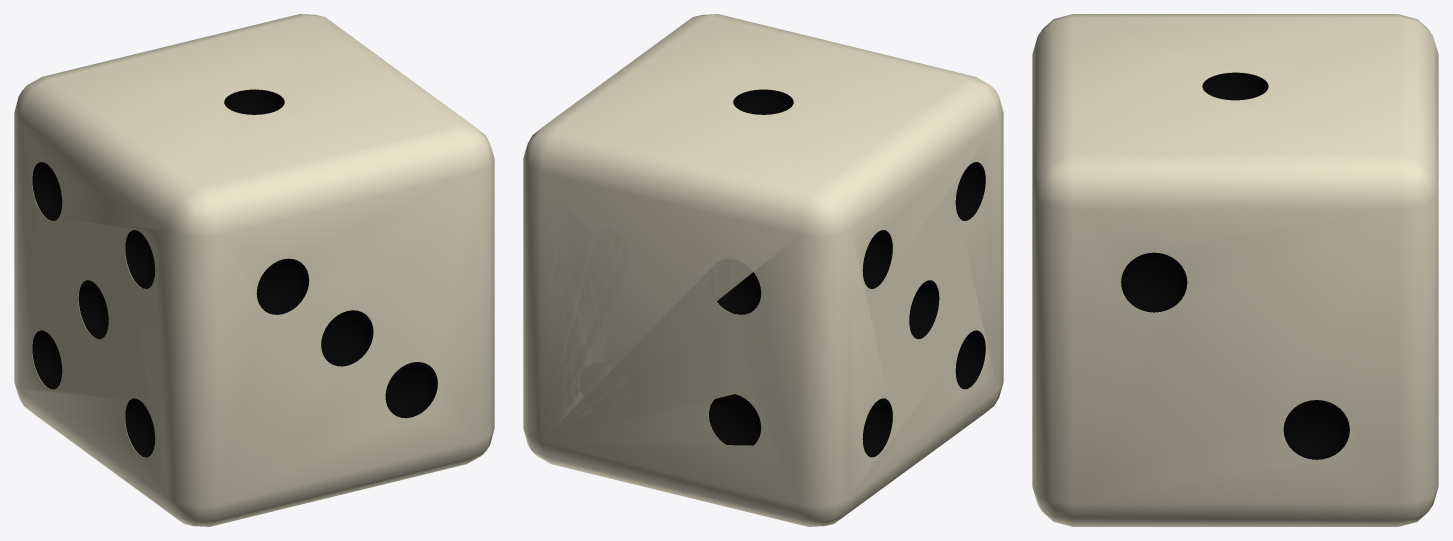
The model's file is Dice Asset.fbx.
The picture shows the model from 3 angles, left to right: view 1: azimuth 30°, elevation 25°; view 2: azimuth 150°, elevation 25°; view 3: azimuth 270°, elevation 25°; orthographic projection. The views are drawn at different scales.
Visible parts, largest first — view 1: Dice.001; view 2: Dice.001; view 3: Dice.001.
Boxes of the visible parts, x1,y1,x2,y2 form: Dice.001: (14, 14, 494, 526); Dice.001: (523, 14, 1003, 526); Dice.001: (1032, 14, 1438, 526).
Size of the model in its own units: 200 by 200 by 200.
